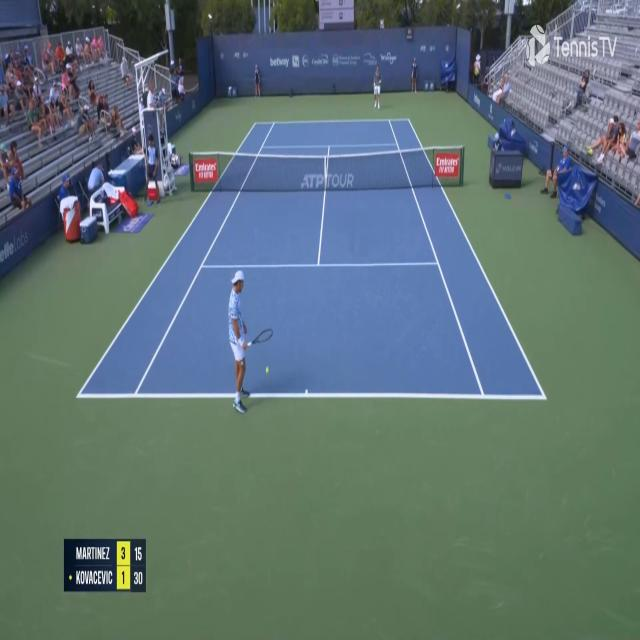tennis-player: (227, 266, 276, 416), (372, 62, 382, 109)
